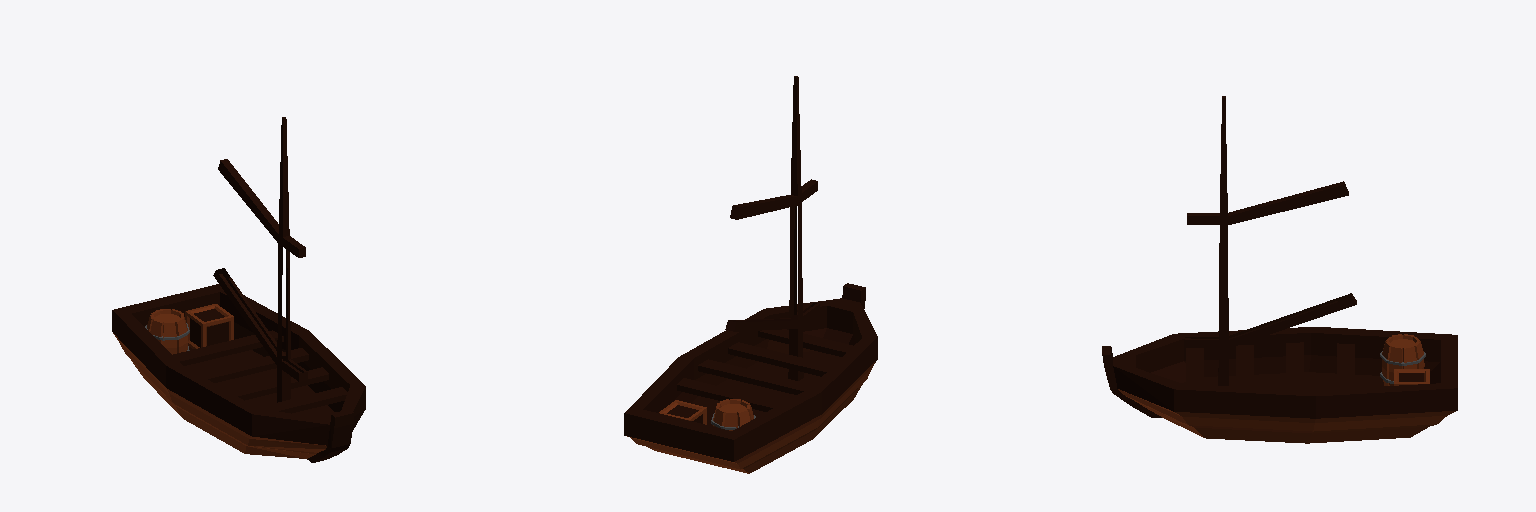
File: BoatWSail.obj
The picture shows the model from 3 angles: view 1: azimuth 30°, elevation 25°; view 2: azimuth 150°, elevation 25°; view 3: azimuth 270°, elevation 25°; orthographic projection.
Visible parts, largest first — view 1: Boat_Cube.001, Sail_Cube.005; view 2: Boat_Cube.001, Sail_Cube.005; view 3: Boat_Cube.001, Sail_Cube.005.
Boxes of the visible parts, <box> form: Boat_Cube.001: <box>112,284,365,462</box>; Sail_Cube.005: <box>213,117,307,402</box>; Boat_Cube.001: <box>624,283,877,473</box>; Sail_Cube.005: <box>725,76,819,380</box>; Boat_Cube.001: <box>1102,327,1457,443</box>; Sail_Cube.005: <box>1185,96,1356,385</box>.
Bounding box in the file's own units: 351 × 743 × 754.